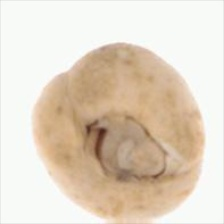L3: (86, 113, 171, 182)
L4: (32, 41, 205, 220)
